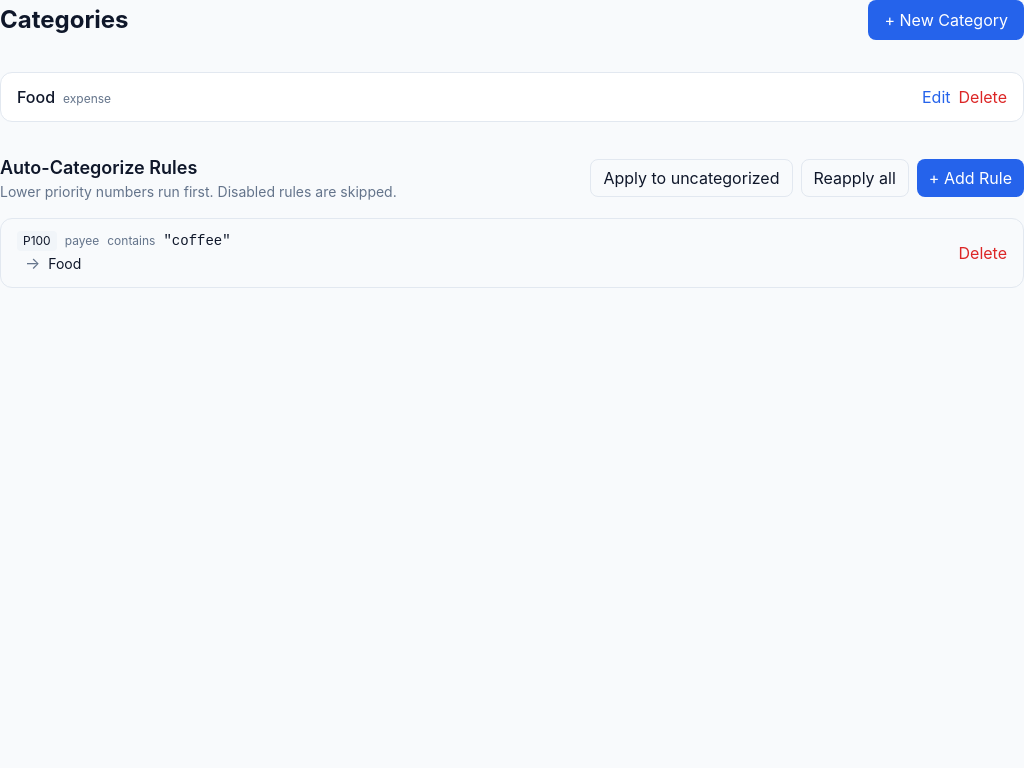
Test case: CategoriesPage › opens add rule modal
The width and height of the screenshot is (1024, 768).
Click the button "+ Add Rule" at {"x": 970, "y": 178}, box [917,159,1023,197]
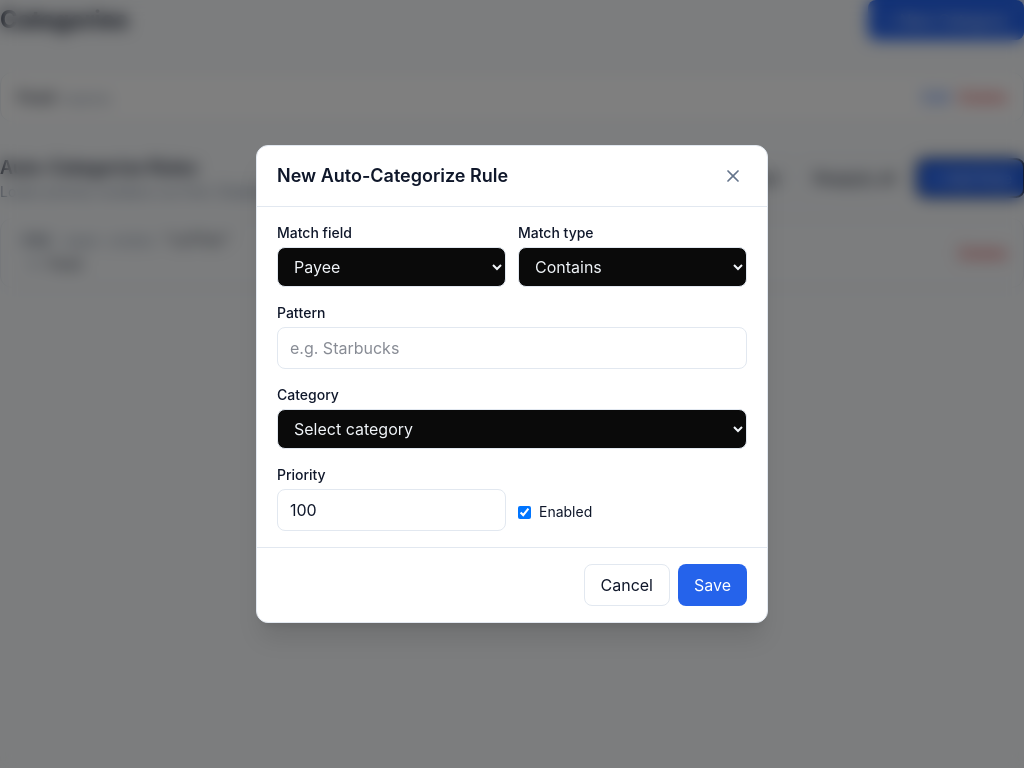
Now the heading "New Auto-Categorize Rule" is shown, box [277,162,508,190]
